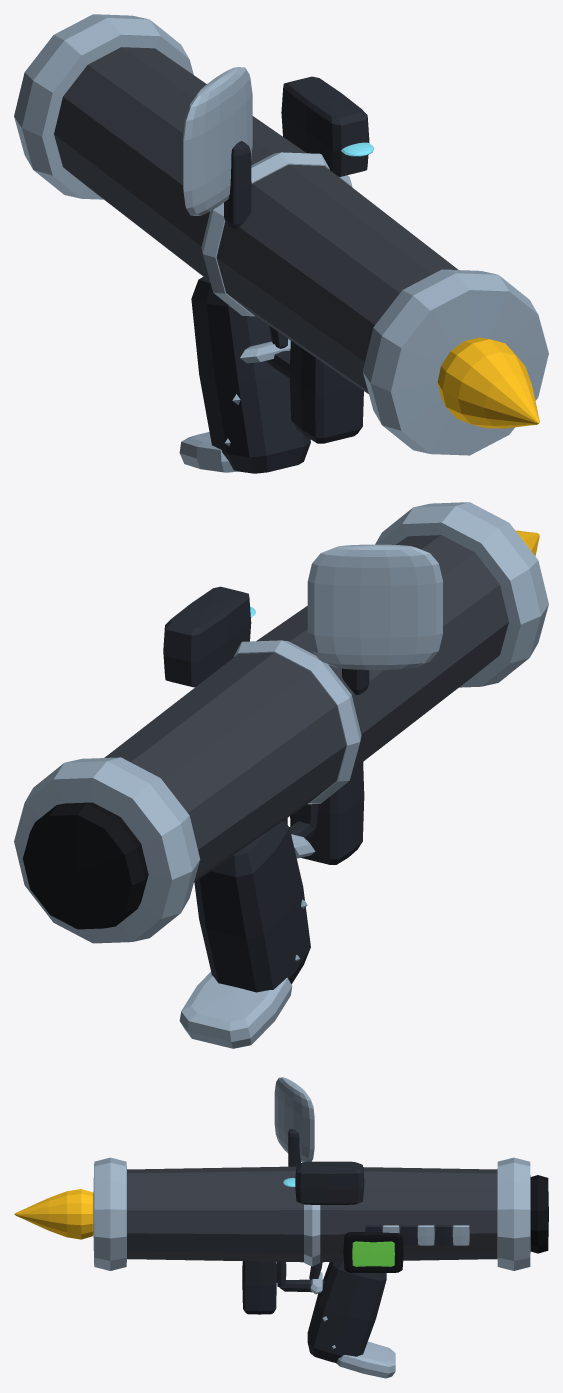
File: g-x-homing.glb
3 renders of one model, top to bottom at view 1: azimuth 30°, elevation 25°; view 2: azimuth 150°, elevation 25°; view 3: azimuth 270°, elevation 25°, orthographic. The views are drawn at different scales.
Parts seen in each view (by area): view 1: gun; view 2: gun; view 3: gun.
Boxes of the visible parts, x1,y1,x2,y2 form: gun: (14,14,548,473); gun: (14,502,548,1048); gun: (14,1077,548,1378).
Size of the model in its own units: 0.3273 by 0.6636 by 1.22.
